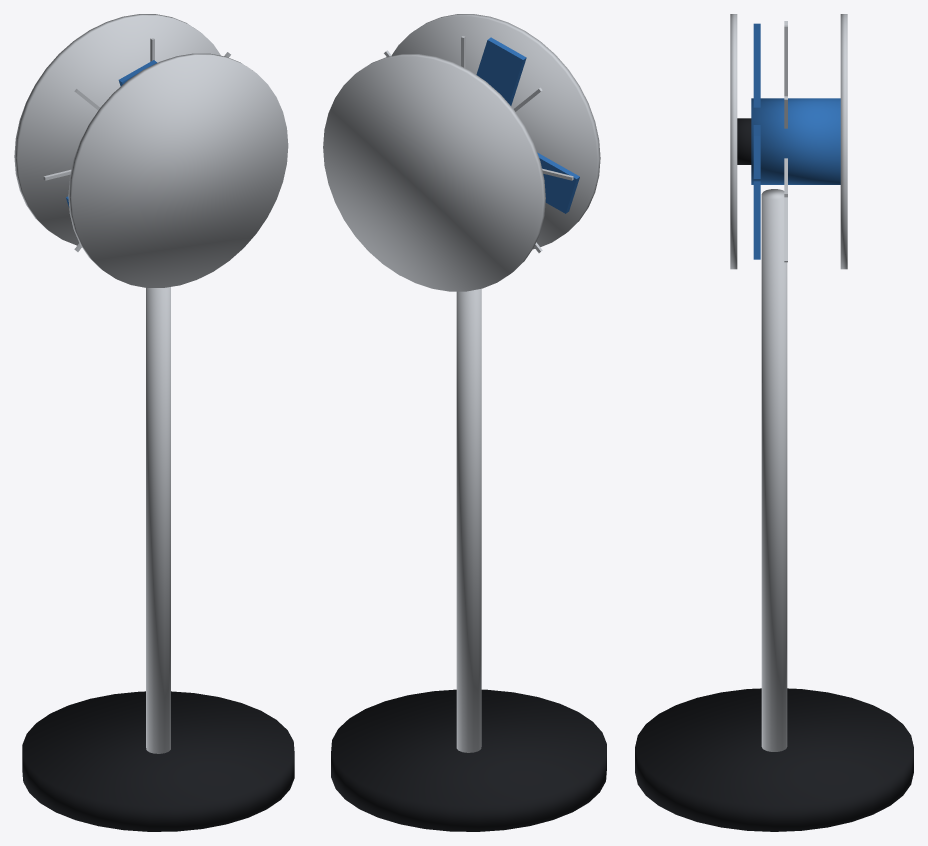
Rendered from fan-standing.glb.
3 views of the same model, side by side, from view 1: azimuth 30°, elevation 25°; view 2: azimuth 150°, elevation 25°; view 3: azimuth 270°, elevation 25° (orthographic). The views are drawn at different scales.
Visible parts, largest first — view 1: Ring, Base, RingBack, Pole; view 2: RingBack, Base, Ring, Pole, Blade.001, Blade.002; view 3: Base, Pole, Motor, Ring, RingBack, Hub, Blade.001, Blade.003.
Boxes of the visible parts, x1=… form: Ring: x1=68, y1=53, x2=288, y2=287; Base: x1=22, y1=691, x2=294, y2=831; RingBack: x1=14, y1=14, x2=220, y2=245; Pole: x1=146, y1=287, x2=170, y2=753; RingBack: x1=323, y1=54, x2=545, y2=291; Base: x1=331, y1=689, x2=606, y2=831; Ring: x1=391, y1=14, x2=600, y2=249; Pole: x1=456, y1=288, x2=481, y2=752; Blade.001: x1=476, y1=37, x2=526, y2=105; Blade.002: x1=537, y1=152, x2=579, y2=213; Base: x1=635, y1=688, x2=913, y2=831; Pole: x1=761, y1=189, x2=787, y2=751; Motor: x1=751, y1=98, x2=840, y2=184; Ring: x1=730, y1=14, x2=737, y2=269; RingBack: x1=840, y1=14, x2=847, y2=269; Hub: x1=737, y1=118, x2=751, y2=164; Blade.001: x1=753, y1=23, x2=760, y2=107; Blade.003: x1=753, y1=181, x2=760, y2=259.
Bounding box in the file's own units: 0.504 × 1.49 × 0.504.
